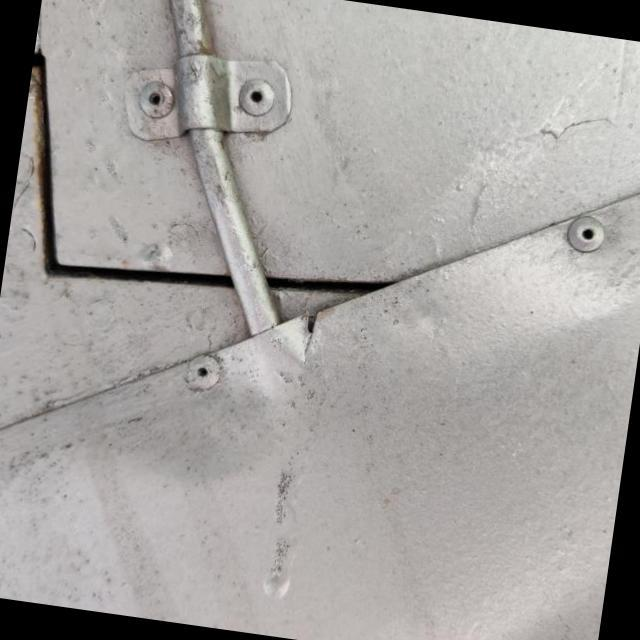Rupture: (282, 294, 350, 378)
